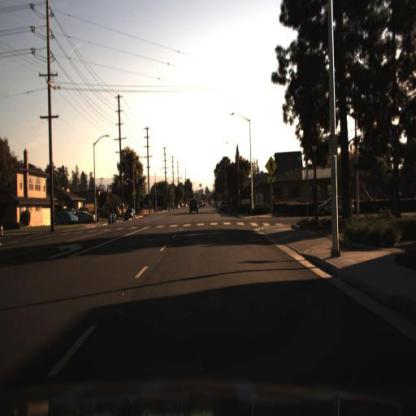car: (313, 192, 358, 221), (50, 206, 81, 230), (49, 207, 80, 224), (78, 205, 100, 228), (183, 194, 200, 218), (121, 204, 136, 223), (122, 205, 138, 222)
